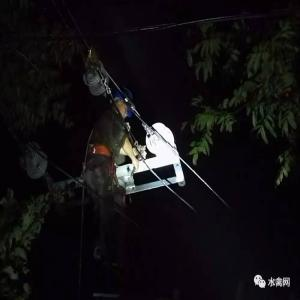blue: (110, 87, 135, 120)
